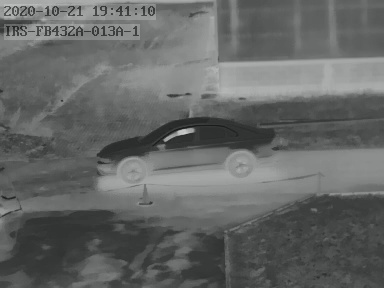vehicle: (94, 116, 280, 179)
